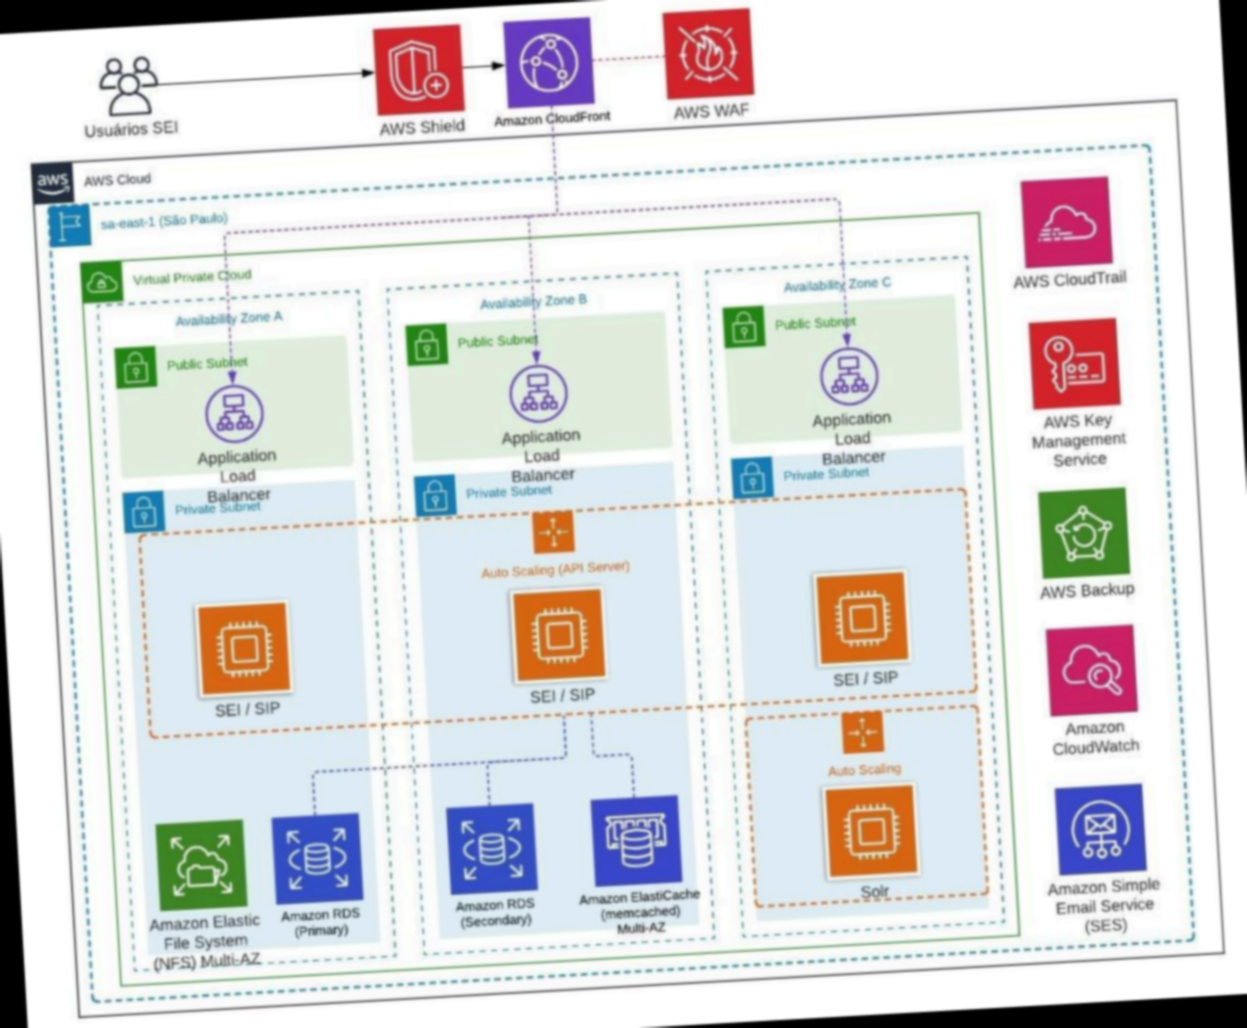aws_application_load_balancer: (199, 380, 267, 444), (813, 343, 882, 406), (502, 360, 570, 424)
aws_autoscaling: (841, 709, 882, 752), (531, 509, 572, 553)
aws_backup: (1038, 486, 1128, 577)
aws_cloud: (27, 160, 72, 200)
aws_cloud_trail: (1020, 174, 1110, 266)
aws_cloudfront: (500, 14, 594, 108)
aws_cloudwatch: (1046, 626, 1134, 716)
aws_elactic_file_system(nfs)_multi-az: (156, 818, 247, 911)
aws_elasticache: (588, 797, 682, 888)
aws_key_management_service: (1026, 317, 1120, 411)
aws_private_subnet: (730, 456, 772, 501), (121, 489, 164, 531), (414, 472, 456, 515)
aws_public_subnet: (370, 20, 464, 117), (111, 343, 157, 389), (404, 321, 447, 366), (722, 305, 762, 347)
aws_rds: (447, 803, 536, 891), (273, 813, 363, 900)
aws_region: (45, 202, 92, 246)
aws_simple_email_service: (1054, 783, 1145, 877)
aws_virtual_private_cloud: (80, 260, 124, 303)
aws_waf: (655, 3, 755, 102)
sei/sip: (509, 584, 605, 681), (812, 567, 908, 664), (195, 598, 291, 695)
solr: (824, 782, 915, 873)
user: (88, 50, 165, 118)
